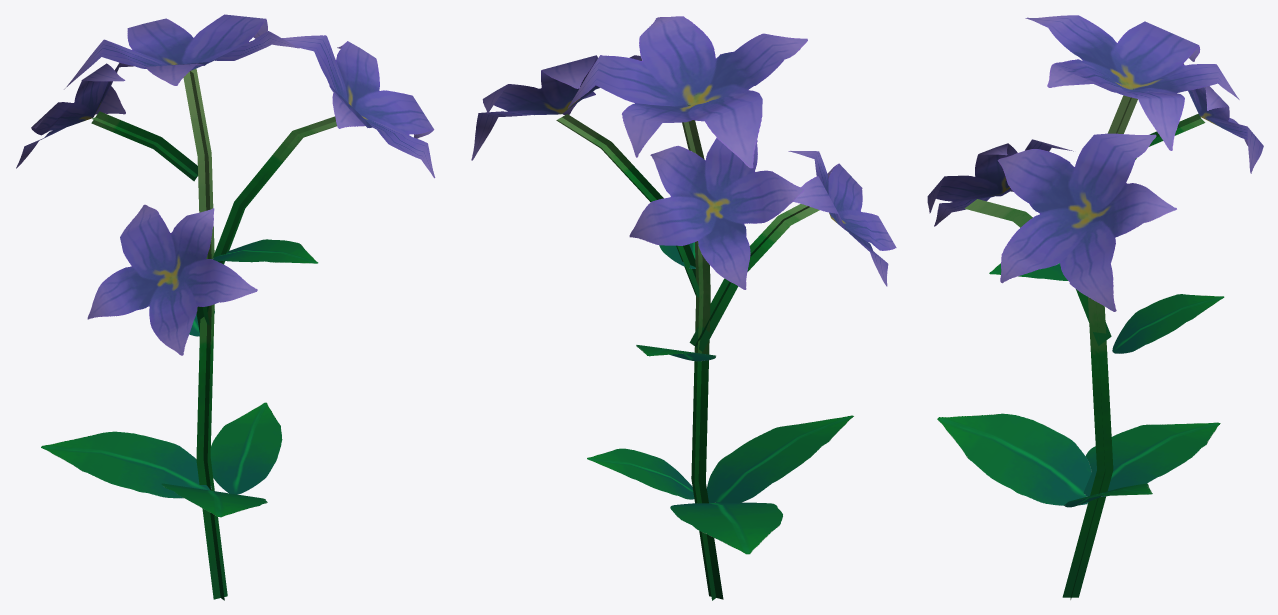
File: SM_Lis_02.fbx
The picture shows the model from 3 angles, left to right: view 1: azimuth 30°, elevation 25°; view 2: azimuth 150°, elevation 25°; view 3: azimuth 270°, elevation 25°; orthographic projection. The views are drawn at different scales.
Visible parts, largest first — view 1: Lis_03; view 2: Lis_03; view 3: Lis_03.
Part boxes in pixels (x1=…): Lis_03: x1=16, y1=14, x2=435, y2=600; Lis_03: x1=471, y1=16, x2=896, y2=600; Lis_03: x1=927, y1=15, x2=1263, y2=599.
Size of the model in its own units: 89.9 by 129 by 71.24.
Materials: 1 (1 with a texture image).
